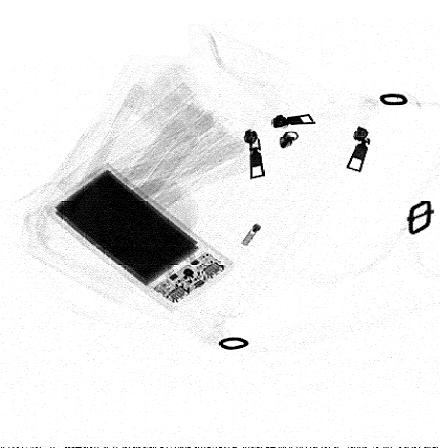Powerbank: (45, 163, 231, 313)
